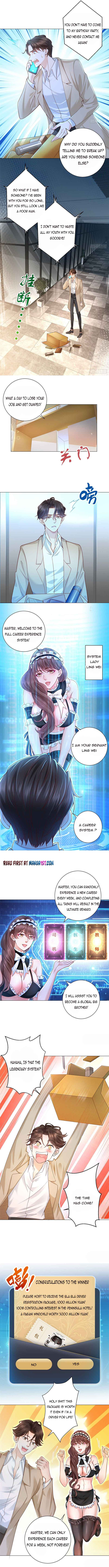bubbles: (2, 169, 77, 264), (0, 1035, 47, 1097), (41, 1376, 82, 1445), (62, 0, 106, 62), (62, 1162, 103, 1228), (59, 126, 107, 178), (54, 870, 102, 922), (24, 1515, 74, 1564), (2, 377, 48, 422), (2, 610, 46, 653), (70, 724, 108, 766), (62, 980, 100, 1020), (71, 809, 103, 845), (84, 644, 104, 681)
